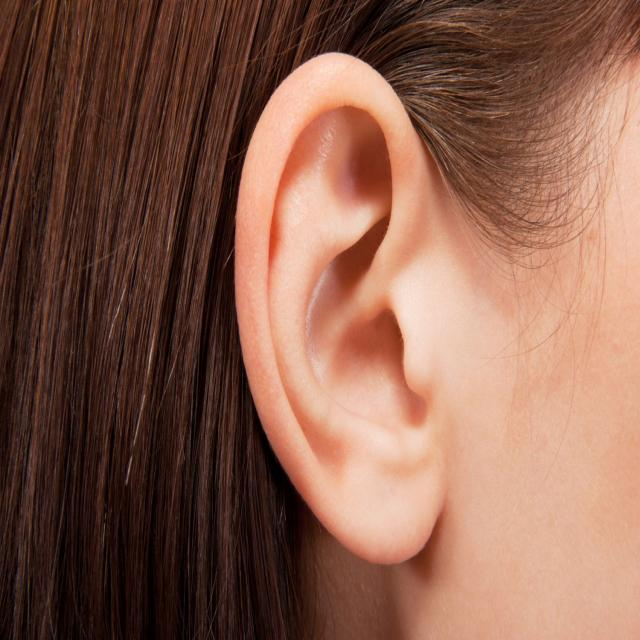earlobe: (358, 405, 440, 568)
wholeear: (233, 52, 440, 568)
